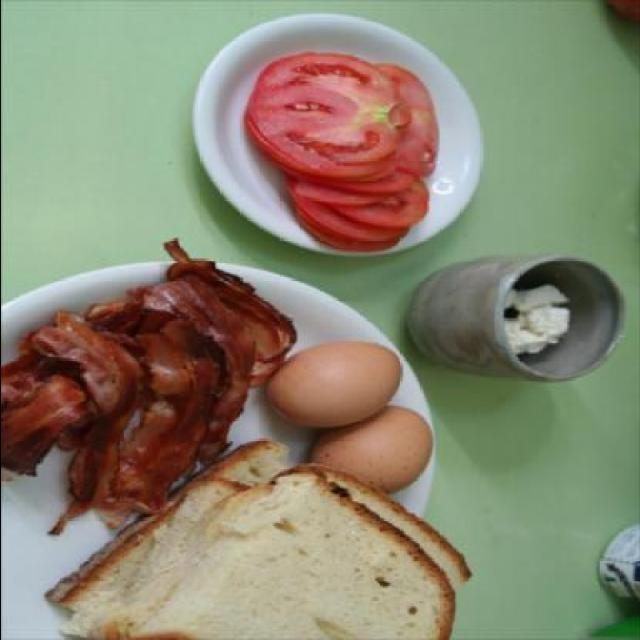Sandwich: (38, 438, 474, 640)
